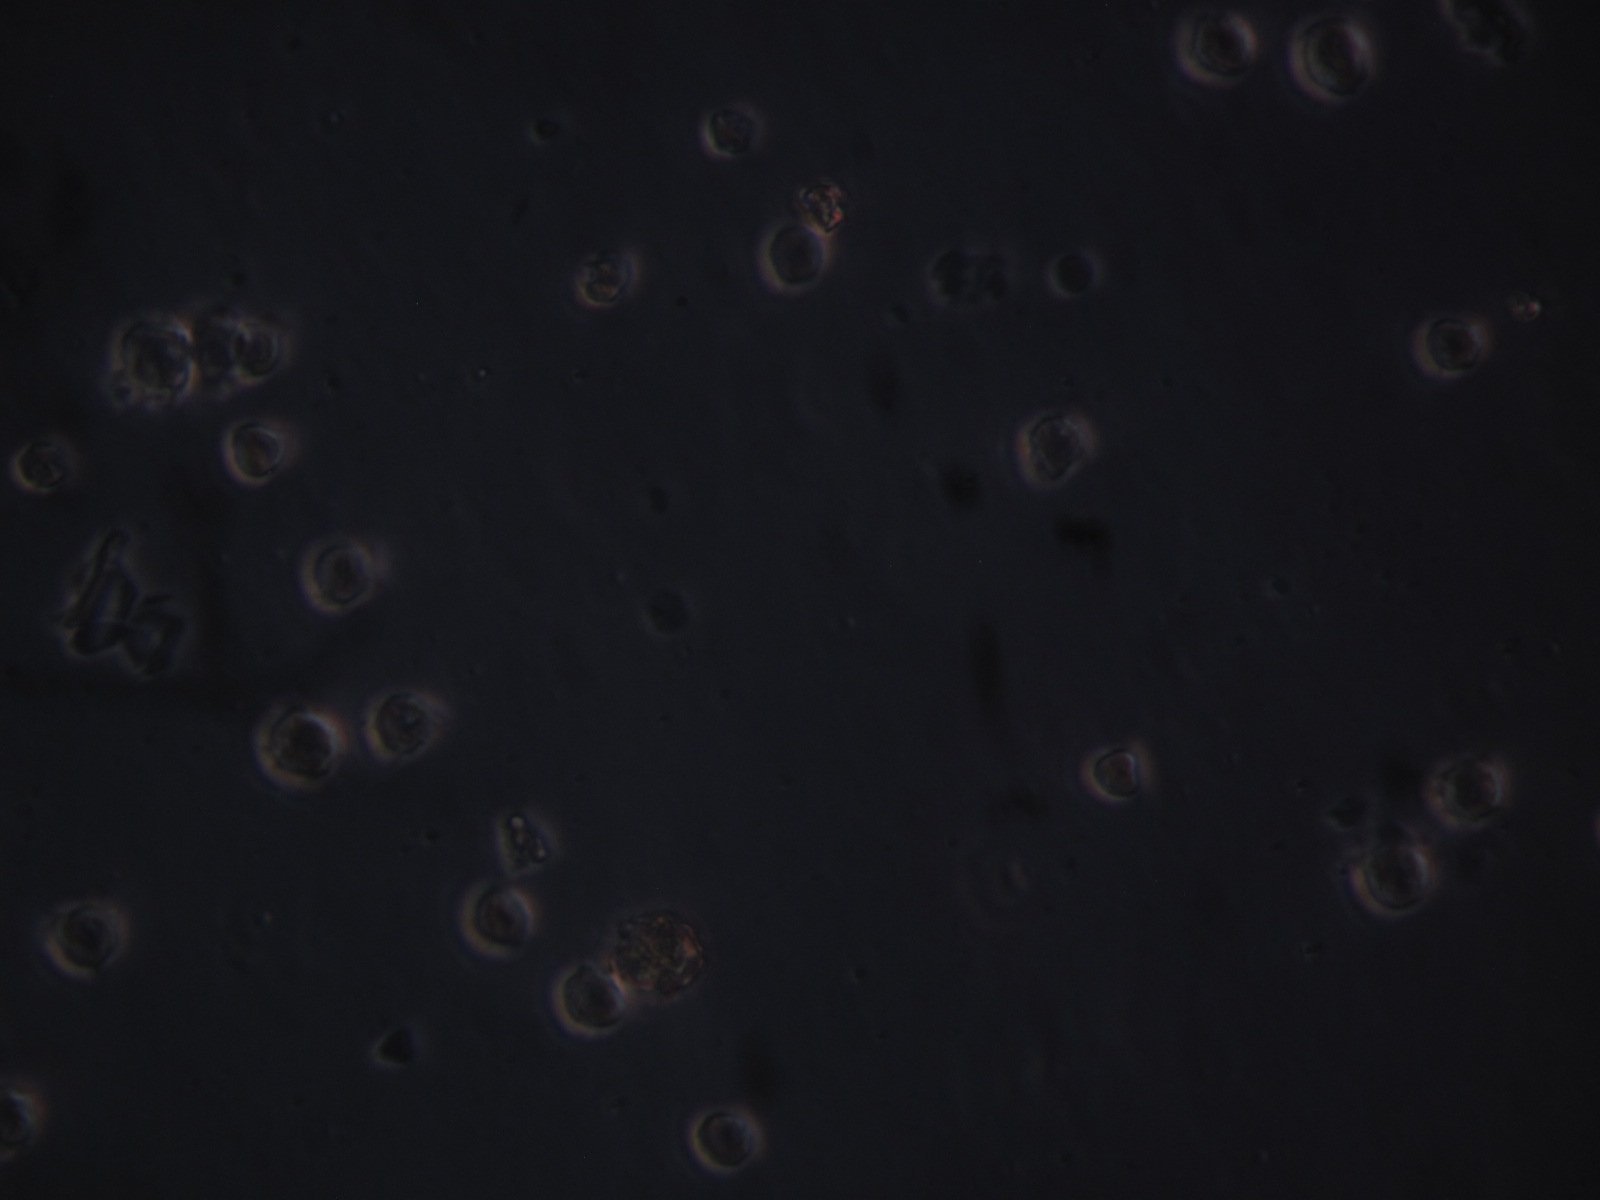hemo: (254, 700, 348, 793), (108, 309, 197, 405), (1288, 15, 1377, 101), (1172, 8, 1260, 88), (1353, 839, 1436, 916), (1014, 408, 1094, 488), (1429, 755, 1508, 833), (48, 900, 129, 976), (367, 684, 443, 763), (299, 533, 374, 613), (556, 958, 627, 1039), (689, 1100, 765, 1176), (464, 880, 535, 958), (761, 221, 831, 296), (1082, 734, 1155, 804), (1412, 314, 1490, 379), (223, 416, 294, 484), (229, 316, 294, 384), (700, 102, 763, 163), (577, 250, 639, 308), (14, 437, 76, 493), (794, 175, 847, 234), (1044, 250, 1104, 300), (1, 1090, 45, 1155)
